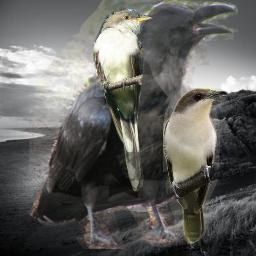Crow: (29, 0, 238, 249)
Cuckoo: (93, 8, 153, 193), (163, 88, 229, 245)
